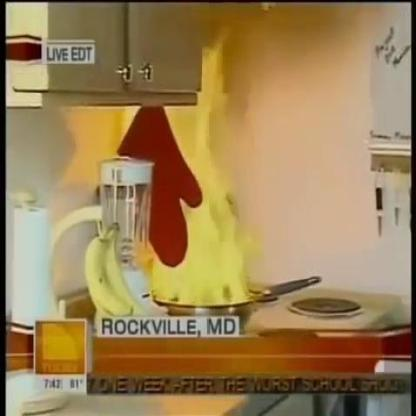fire: (146, 67, 256, 308)
